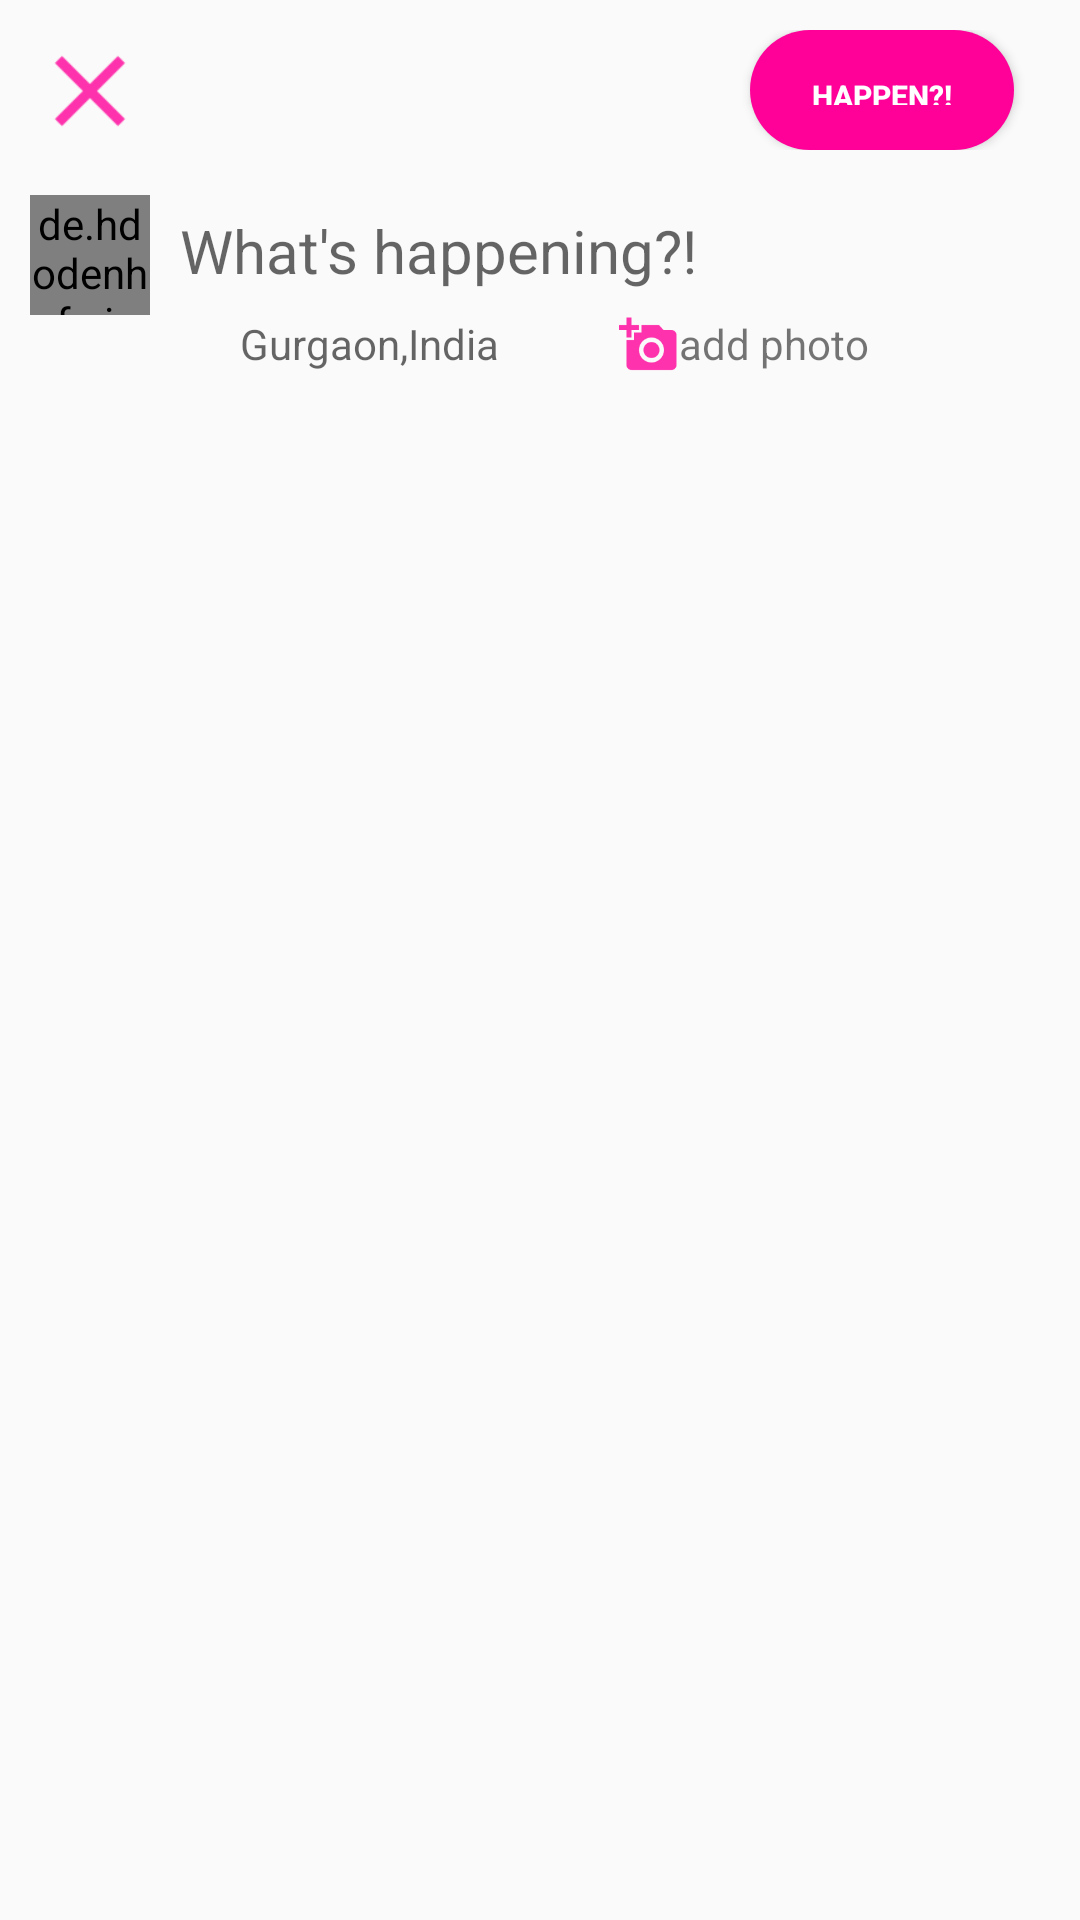

Named icons in this screenshot (1080×1920) and their bounding boxes, rect(x1, y1, x2, y2):
post close: rect(55, 56, 125, 126)
